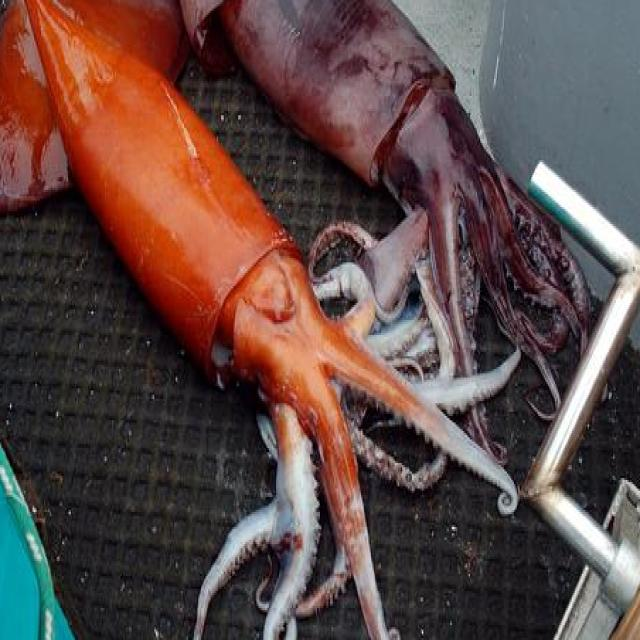SQUID: (0, 0, 426, 608), (184, 0, 605, 241)
